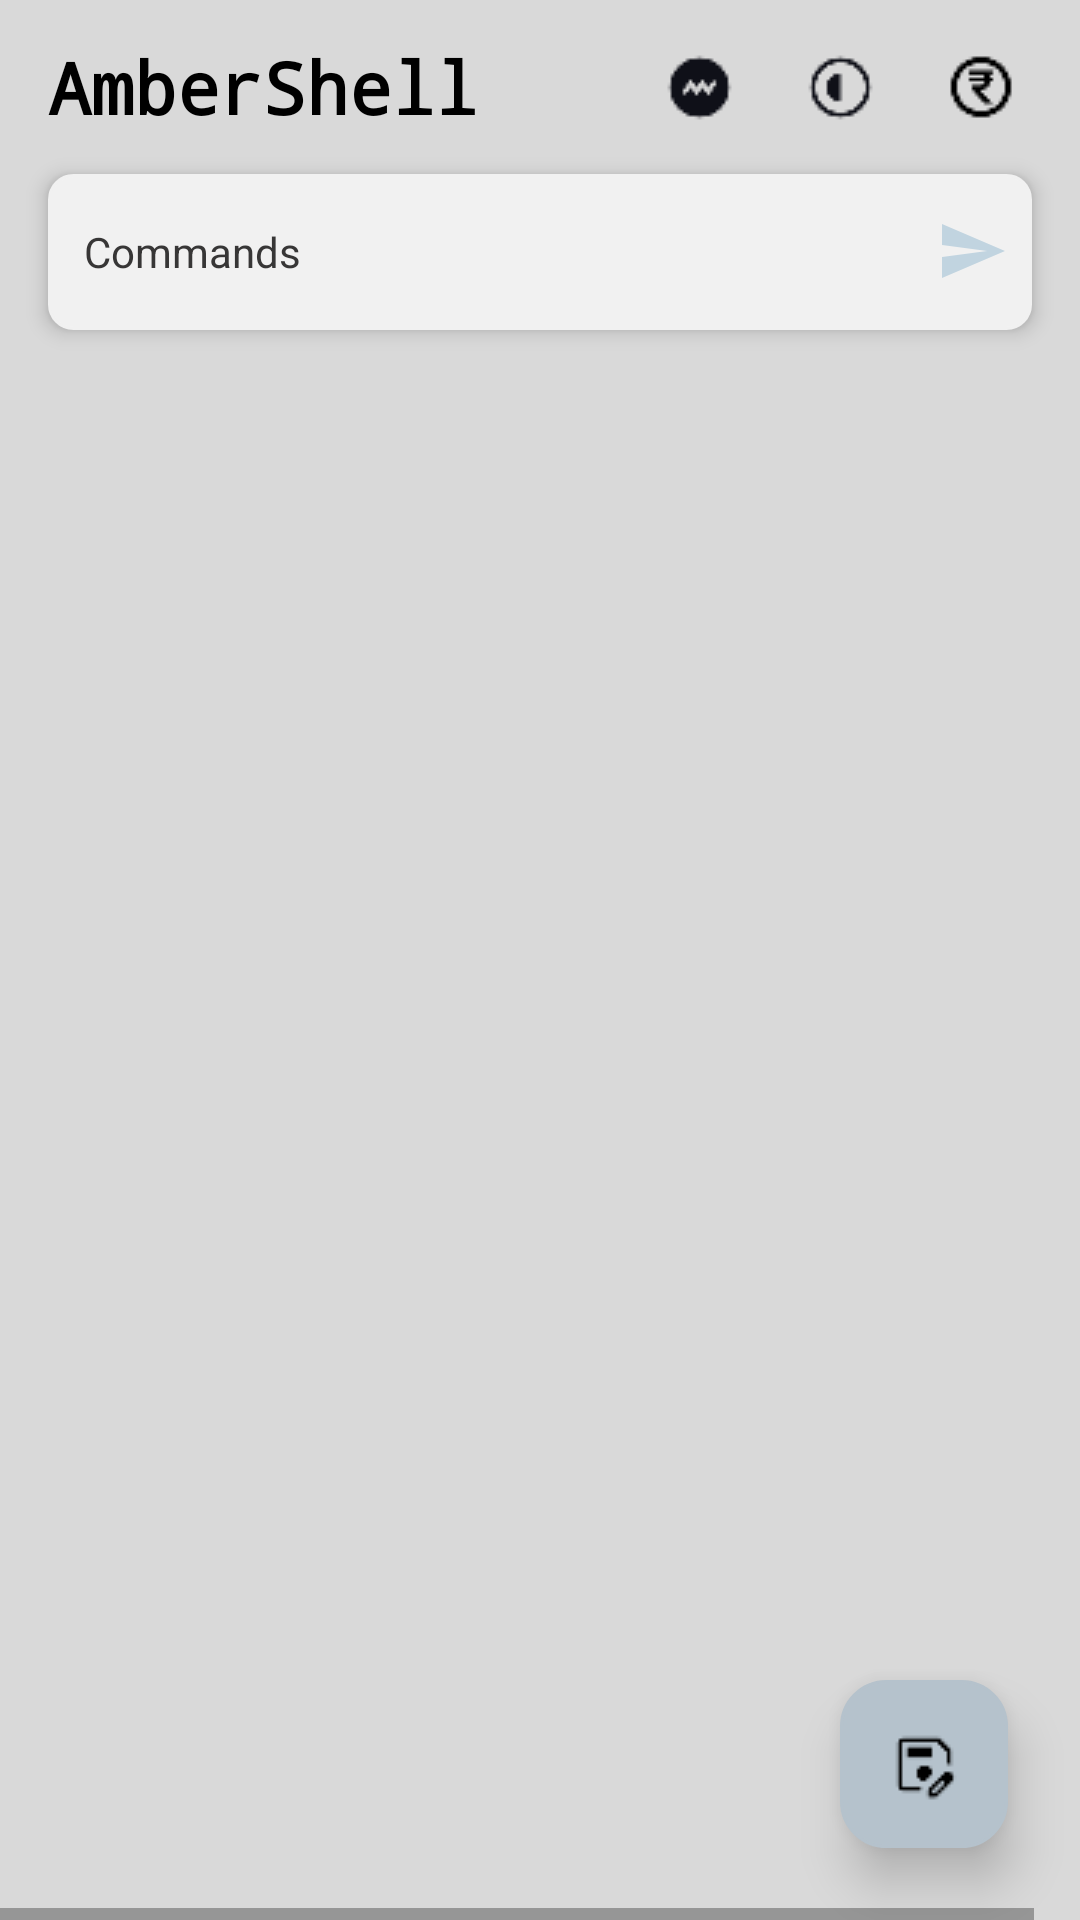

Screen size 1080px×1920px. Icon name, then its center in pixels as [x,y]:
Save all output: [924,1764]
